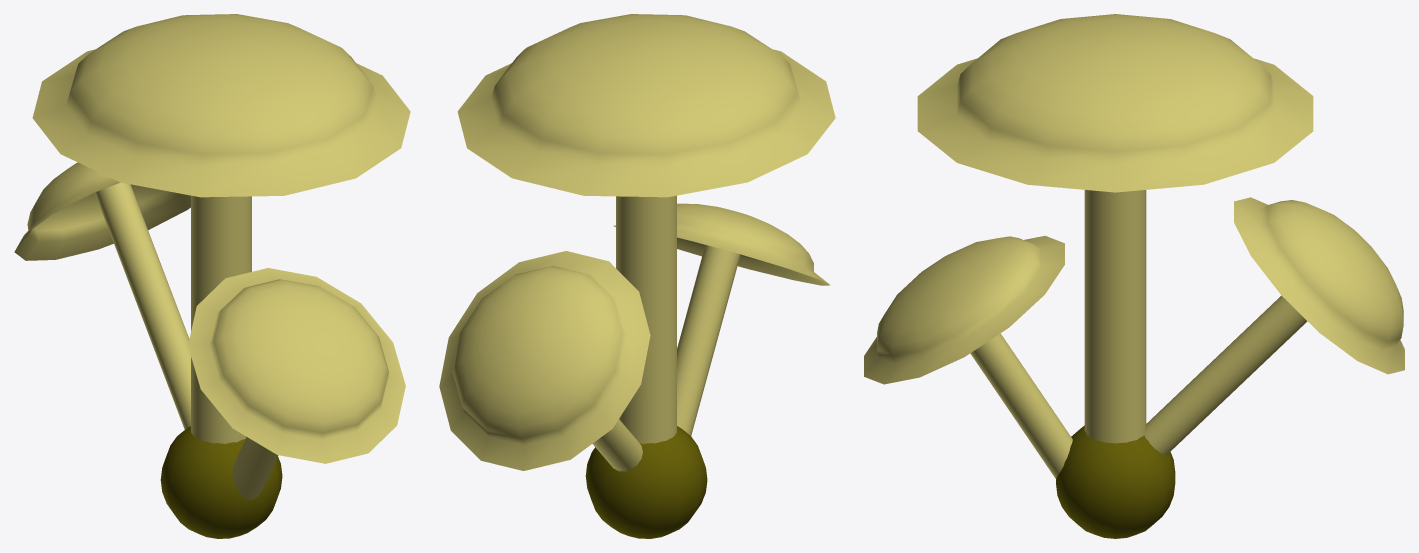
Rendered from mushroom3.fbx.
3 renders of one model, left to right at view 1: azimuth 30°, elevation 25°; view 2: azimuth 150°, elevation 25°; view 3: azimuth 270°, elevation 25°, orthographic.
Parts seen in each view (by area): view 1: MushroomTip (×3), MushroomStalk (×3), MushroomStalkBase; view 2: MushroomTip (×3), MushroomStalk (×3), MushroomStalkBase; view 3: MushroomTip (×3), MushroomStalk (×3), MushroomStalkBase.
Part boxes in pixels (<box>): MushroomTip (×3): <box>14,14,410,463</box>; MushroomStalk (×3): <box>94,182,278,499</box>; MushroomStalkBase: <box>160,426,282,538</box>; MushroomTip (×3): <box>439,14,835,470</box>; MushroomStalk (×3): <box>592,195,740,471</box>; MushroomStalkBase: <box>585,426,707,538</box>; MushroomTip (×3): <box>864,14,1404,384</box>; MushroomStalk (×3): <box>970,190,1307,478</box>; MushroomStalkBase: <box>1056,425,1175,538</box>.
Bounding box in the file's own units: 3.42 × 4.96 × 4.96.
